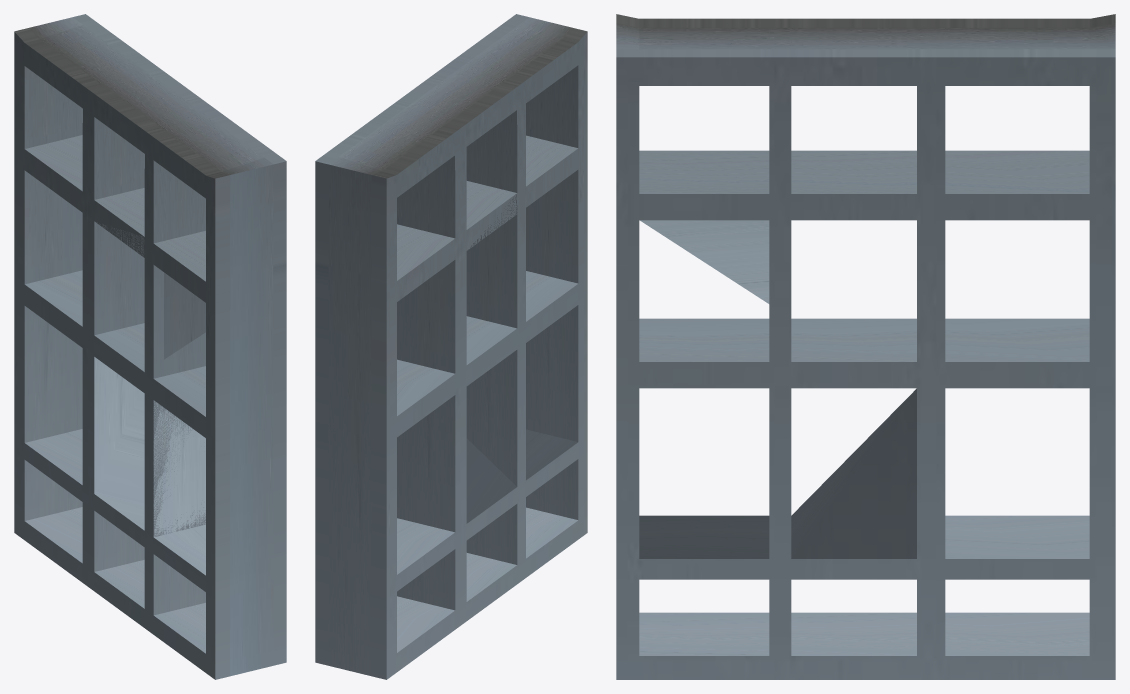
The model's file is fenetreagain.fbx.
The picture shows the model from 3 angles, left to right: view 1: azimuth 30°, elevation 25°; view 2: azimuth 150°, elevation 25°; view 3: azimuth 270°, elevation 25°; orthographic projection. The views are drawn at different scales.
Parts seen in each view (by area): view 1: Cube.009; view 2: Cube.009; view 3: Cube.009.
Part boxes in pixels (x1,y1,x2,y2): Cube.009: [14, 14, 286, 679]; Cube.009: [315, 14, 587, 679]; Cube.009: [616, 14, 1115, 679].
Size of the model in its own units: 164 by 1100 by 800.
Materials: 1 (1 with a texture image).
